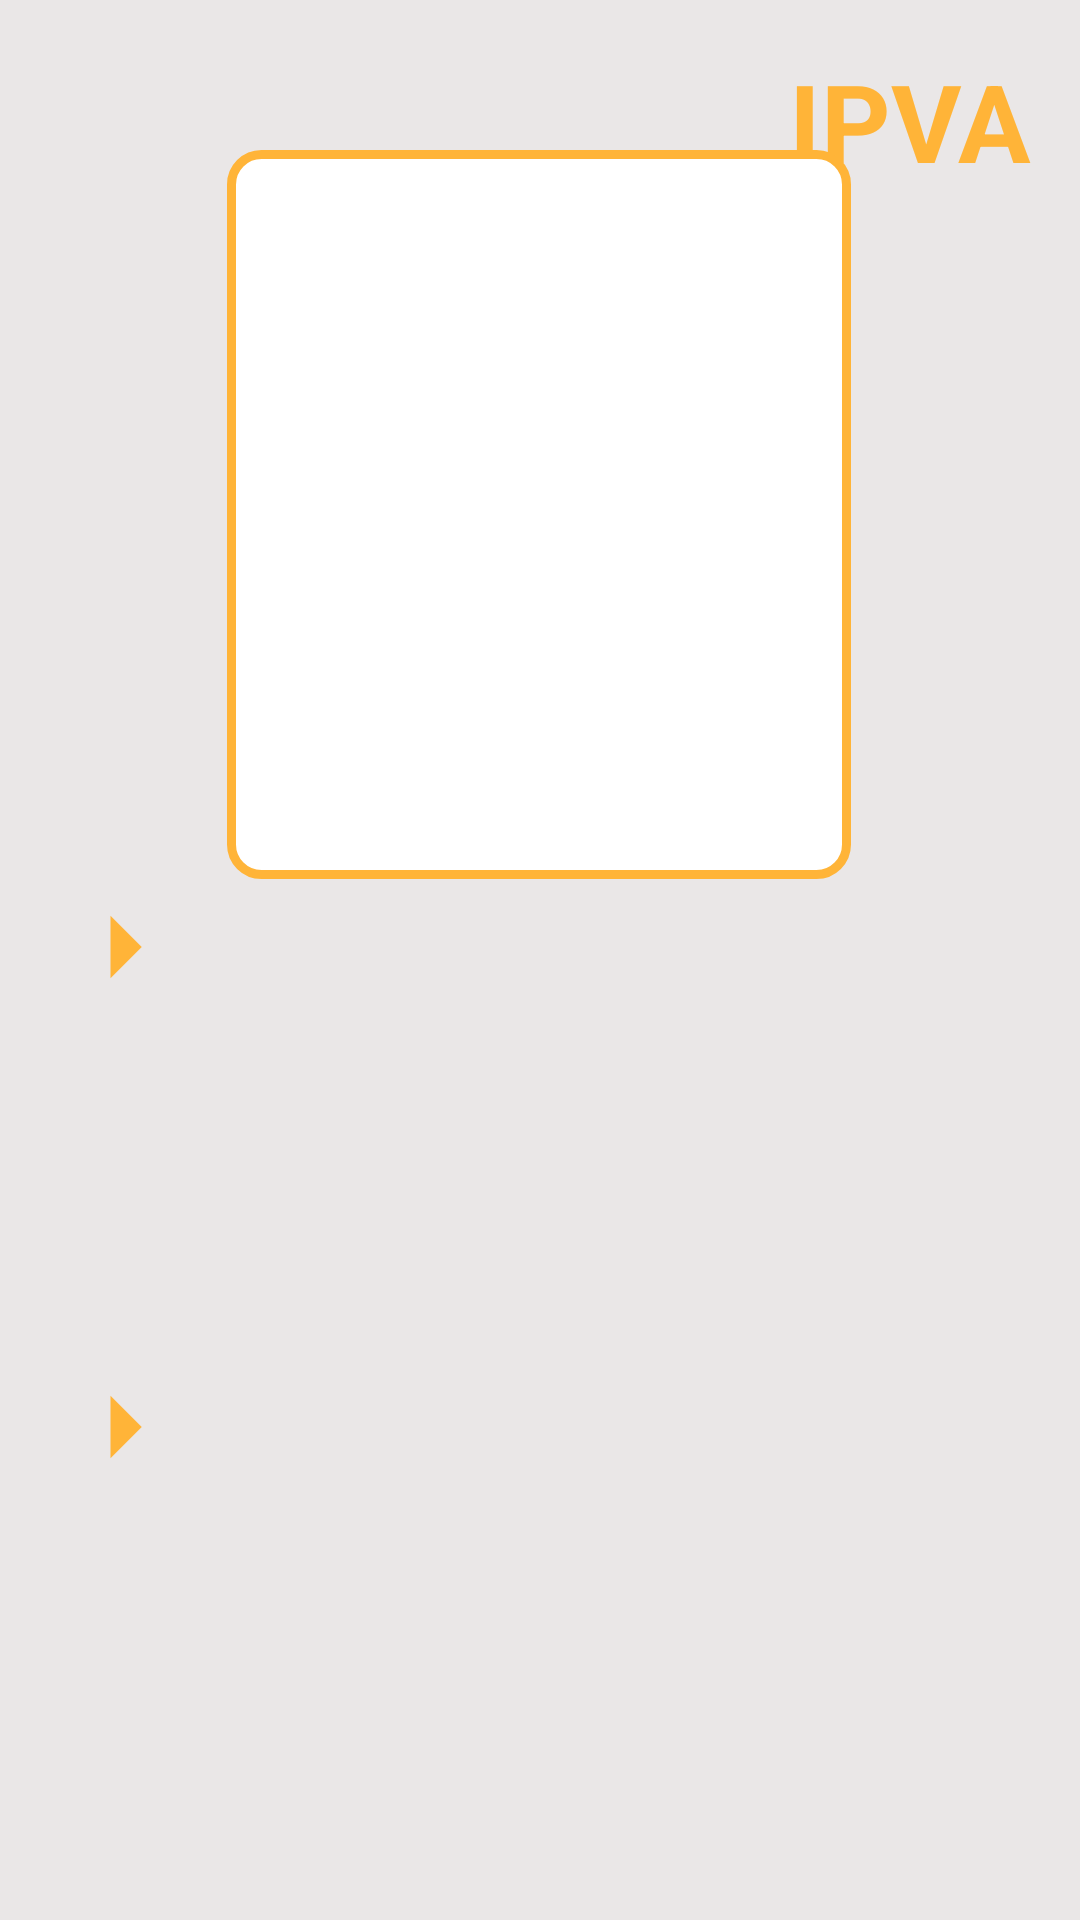

Icon bounding boxes for this 1080 x 1920 phone screenshot, format (left=x1, top=y1, right=x2, bottom=y2):
arrow right: (left=110, top=916, right=142, bottom=978), (left=110, top=1396, right=142, bottom=1458)
